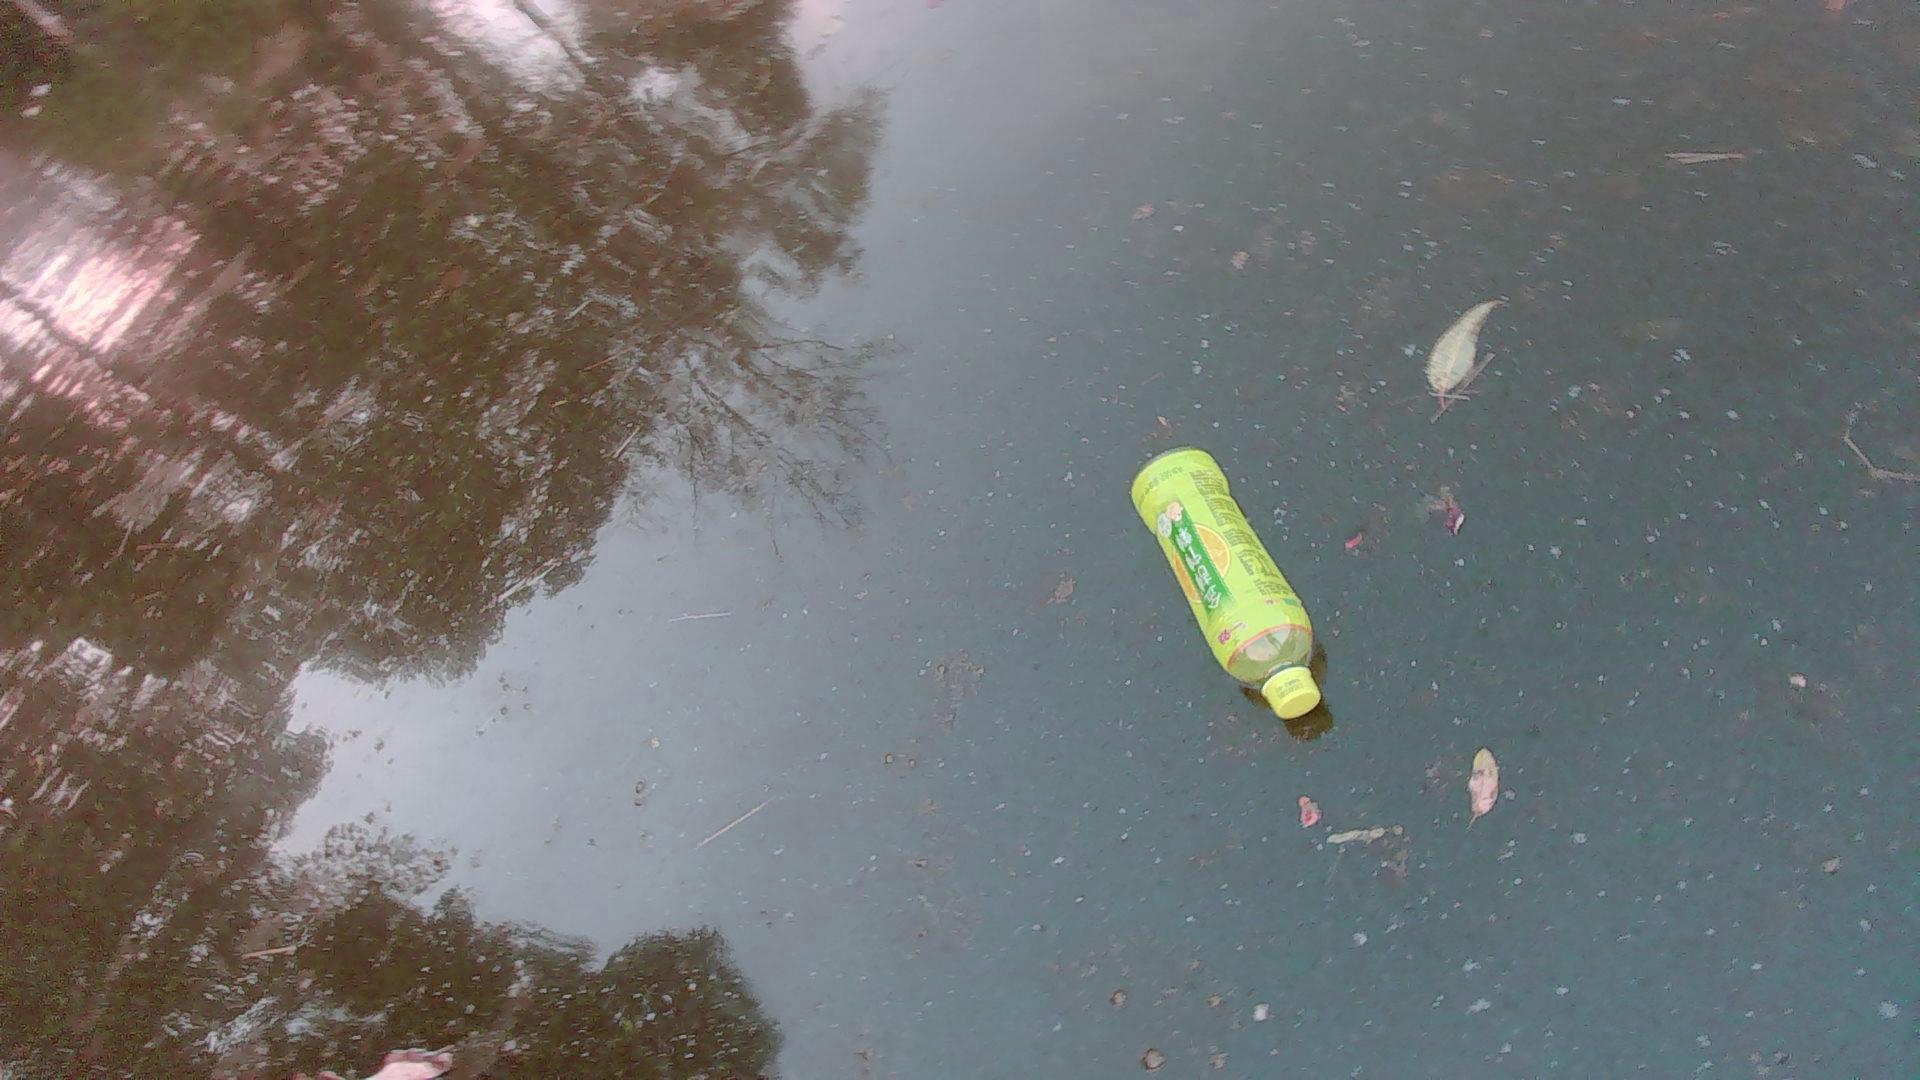Plastic: (1127, 436, 1328, 724)
